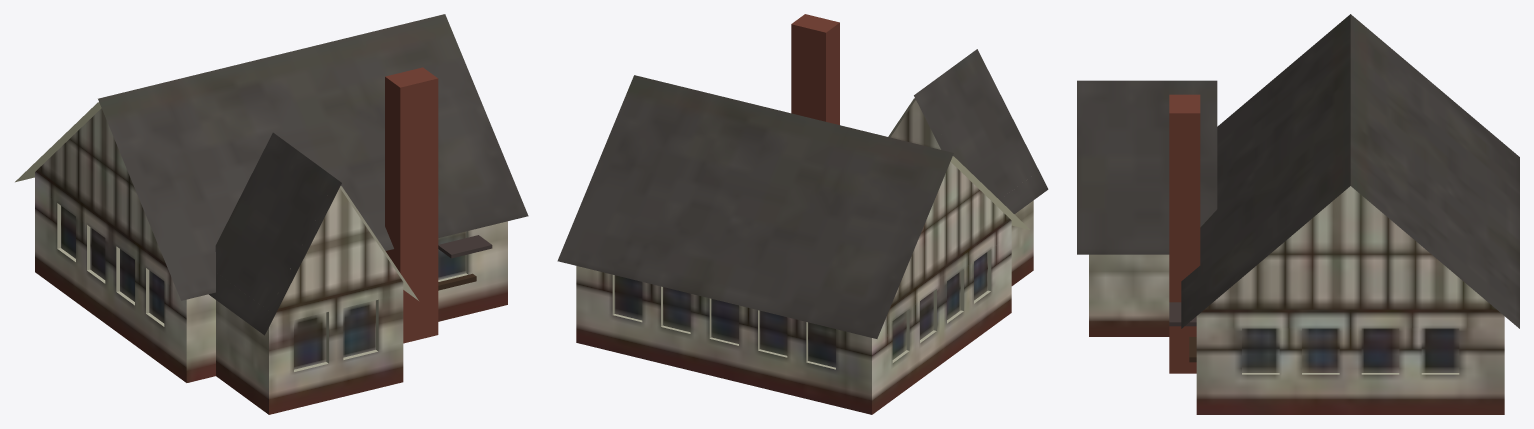
The model's file is seattle_house_c.glb.
The picture shows the model from 3 angles, left to right: view 1: azimuth 30°, elevation 25°; view 2: azimuth 150°, elevation 25°; view 3: azimuth 270°, elevation 25°; orthographic projection. The views are drawn at different scales.
Parts seen in each view (by area): view 1: seattle_house_c; view 2: seattle_house_c; view 3: seattle_house_c.
Boxes of the visible parts, x1,y1,x2,y2 form: seattle_house_c: [15, 14, 528, 414]; seattle_house_c: [557, 14, 1048, 414]; seattle_house_c: [1077, 14, 1519, 414].
Bounding box in the file's own units: 11.9 × 8.4 × 12.95.
1 material, 1 textured.
